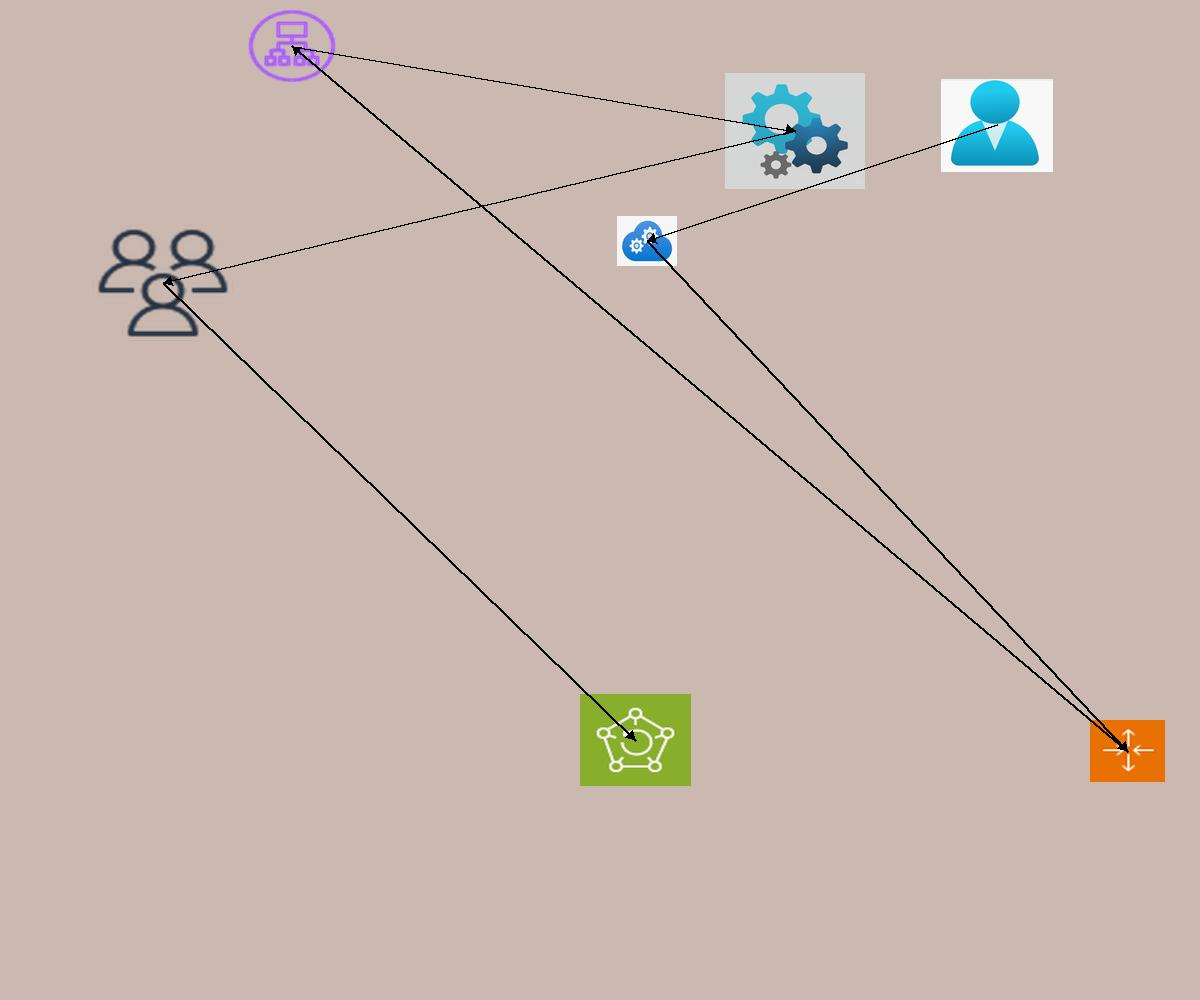AWS-Backup: (580, 694, 691, 786)
AWS-Res_Elastic-Load-Balancing_Application-Load-Balancer: (245, 7, 339, 85)
AWS-Res_Users: (93, 225, 233, 341)
AWS-Scaling-group: (1090, 720, 1165, 782)
Azure_api: (725, 73, 865, 189)
Azure_cloud_services: (617, 216, 677, 266)
Azure_users: (941, 79, 1053, 172)
